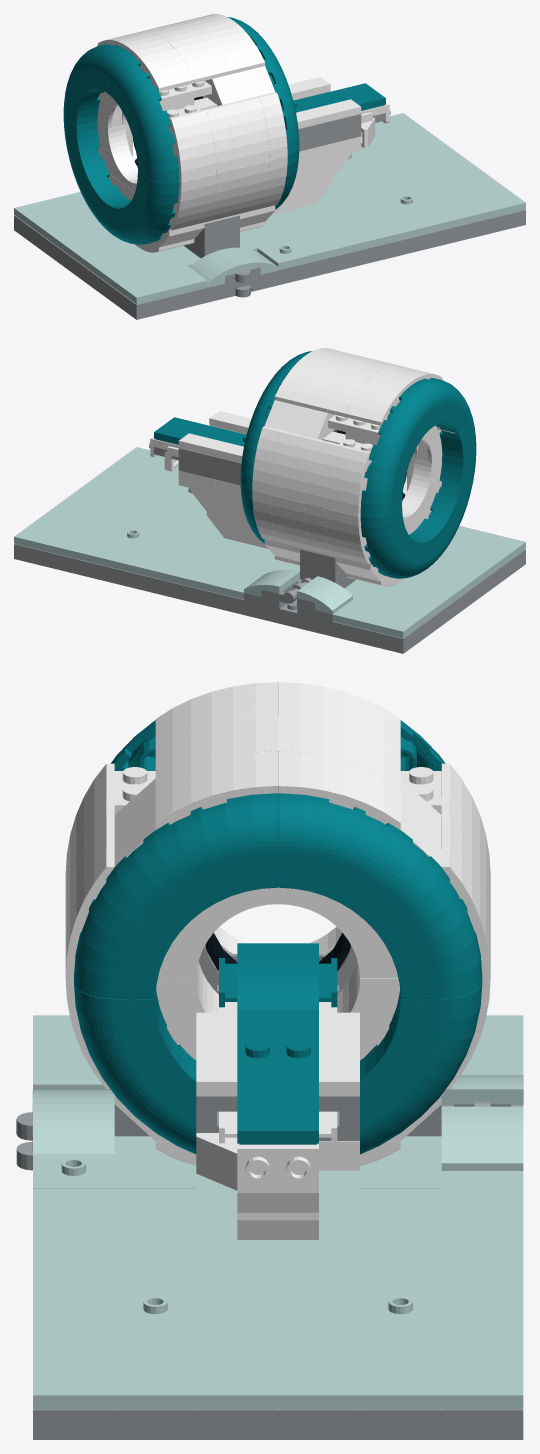
3 views of the same model, one above another, from view 1: azimuth 30°, elevation 25°; view 2: azimuth 150°, elevation 25°; view 3: azimuth 270°, elevation 25° (orthographic). The views are drawn at different scales.
Visible parts, largest first — view 1: 4000041/L129, 4000041/L128, 4000041/L126, 4000041/L127, 4000041/L283, 4000041/L291, 4000041/L94, 4000041/L287, 4000041/L153, 4000041/L101, 4000041/L103, 4000041/L340 (+58 smaller); view 2: 4000041/L127, 4000041/L126, 4000041/L128, 4000041/L129, 4000041/L285, 4000041/L288, 4000041/L92, 4000041/L286, 4000041/L153, 4000041/L102, 4000041/L99, 4000041/L343 (+58 smaller); view 3: 4000041/L125, 4000041/L124, 4000041/L123, 4000041/L122, 4000041/L275, 4000041/L341, 4000041/L343, 4000041/L130, 4000041/L338, 4000041/L339, 4000041/L340, 4000041/L342 (+68 smaller).
Part boxes in pixels (left/top/right/bottom): 4000041/L129: left=107, top=51, right=179, bottom=182; 4000041/L128: left=107, top=171, right=179, bottom=244; 4000041/L126: left=63, top=116, right=127, bottom=232; 4000041/L127: left=63, top=43, right=127, bottom=125; 4000041/L283: left=169, top=109, right=216, bottom=182; 4000041/L291: left=223, top=96, right=269, bottom=169; 4000041/L94: left=116, top=265, right=207, bottom=304; 4000041/L287: left=128, top=38, right=194, bottom=91; 4000041/L153: left=14, top=215, right=242, bottom=312; 4000041/L101: left=364, top=205, right=455, bottom=243; 4000041/L103: left=293, top=222, right=384, bottom=261; 4000041/L340: left=435, top=188, right=525, bottom=226; 4000041/L127: left=360, top=385, right=432, bottom=516; 4000041/L126: left=360, top=505, right=432, bottom=578; 4000041/L128: left=412, top=450, right=476, bottom=566; 4000041/L129: left=412, top=377, right=476, bottom=460; 4000041/L285: left=323, top=443, right=370, bottom=516; 4000041/L288: left=270, top=430, right=316, bottom=503; 4000041/L92: left=332, top=599, right=423, bottom=638; 4000041/L286: left=345, top=372, right=411, bottom=425; 4000041/L153: left=297, top=549, right=525, bottom=646; 4000041/L102: left=84, top=539, right=175, bottom=577; 4000041/L99: left=155, top=556, right=246, bottom=595; 4000041/L343: left=14, top=522, right=104, bottom=560; 4000041/L125: left=74, top=793, right=278, bottom=998; 4000041/L124: left=278, top=793, right=482, bottom=998; 4000041/L123: left=74, top=984, right=196, bottom=1154; 4000041/L122: left=360, top=983, right=482, bottom=1154; 4000041/L275: left=158, top=889, right=398, bottom=978; 4000041/L341: left=114, top=1326, right=196, bottom=1409; 4000041/L343: left=441, top=1326, right=523, bottom=1409; 4000041/L130: left=237, top=1061, right=318, bottom=1144; 4000041/L338: left=196, top=1326, right=277, bottom=1409; 4000041/L339: left=278, top=1326, right=359, bottom=1409; 4000041/L340: left=33, top=1326, right=114, bottom=1409; 4000041/L342: left=360, top=1326, right=441, bottom=1409.
Size of the model in its own units: 0.176 by 0.0928 by 0.0992.
